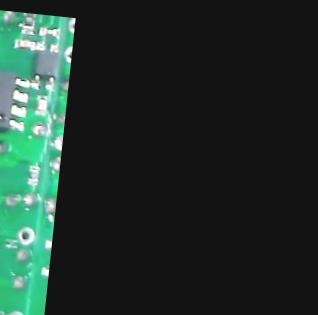chip-capacitor: (34, 92, 48, 114), (13, 35, 36, 48)
chip-resistor: (19, 12, 38, 35), (38, 23, 62, 38), (27, 162, 42, 186)
ic: (32, 38, 61, 91)
